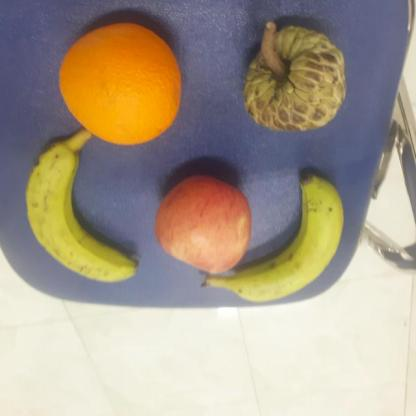annona: (243, 24, 347, 132)
apple: (154, 175, 250, 275)
banana: (201, 172, 345, 302), (24, 147, 139, 283)
orange: (58, 23, 181, 145)
